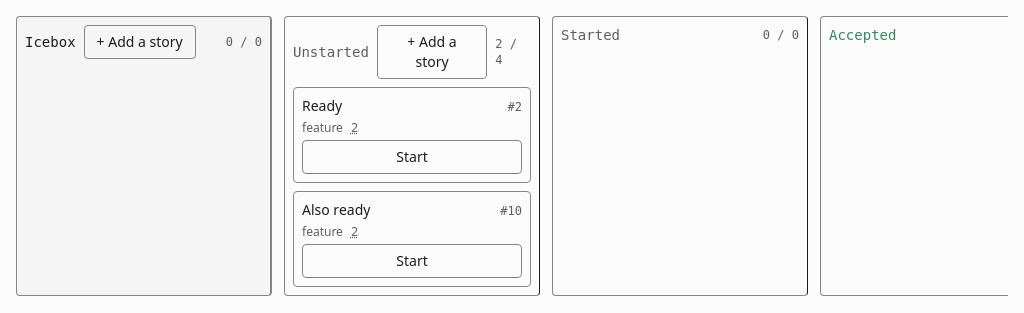
BoardPage › keeps both moves when a second drag starts before the first reload settles
Expected: the text "Ready" is shown, [302, 96, 342, 116]
Expected: the text "Also ready" is shown, [302, 200, 370, 220]
Click the 1st button "Start" at (412, 157), box [302, 140, 522, 174]
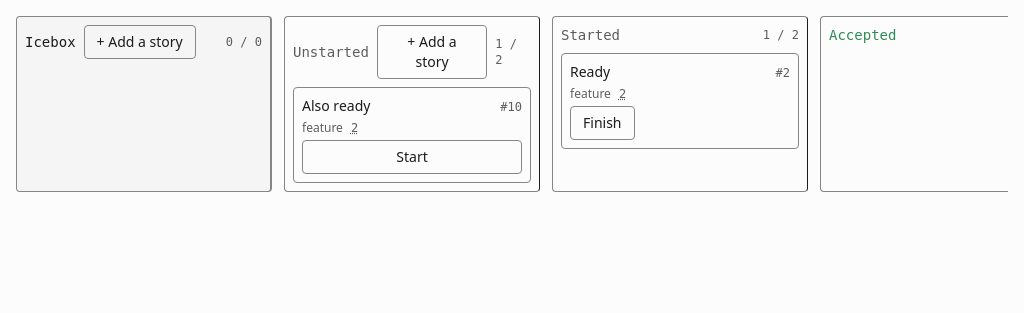
Click the button "Start" at (412, 157), box [302, 140, 522, 174]
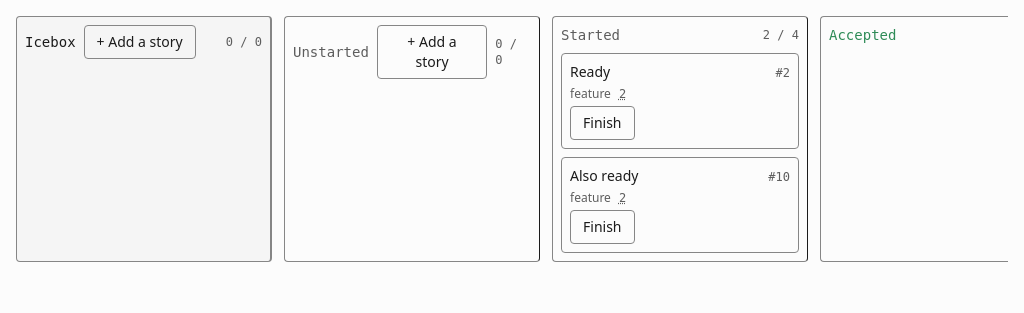
Expected: the text with test id "column-doing-count" reads "2", [763, 28, 770, 42]
Expected: the text with test id "column-todo-count" reads "0", [495, 37, 502, 51]
